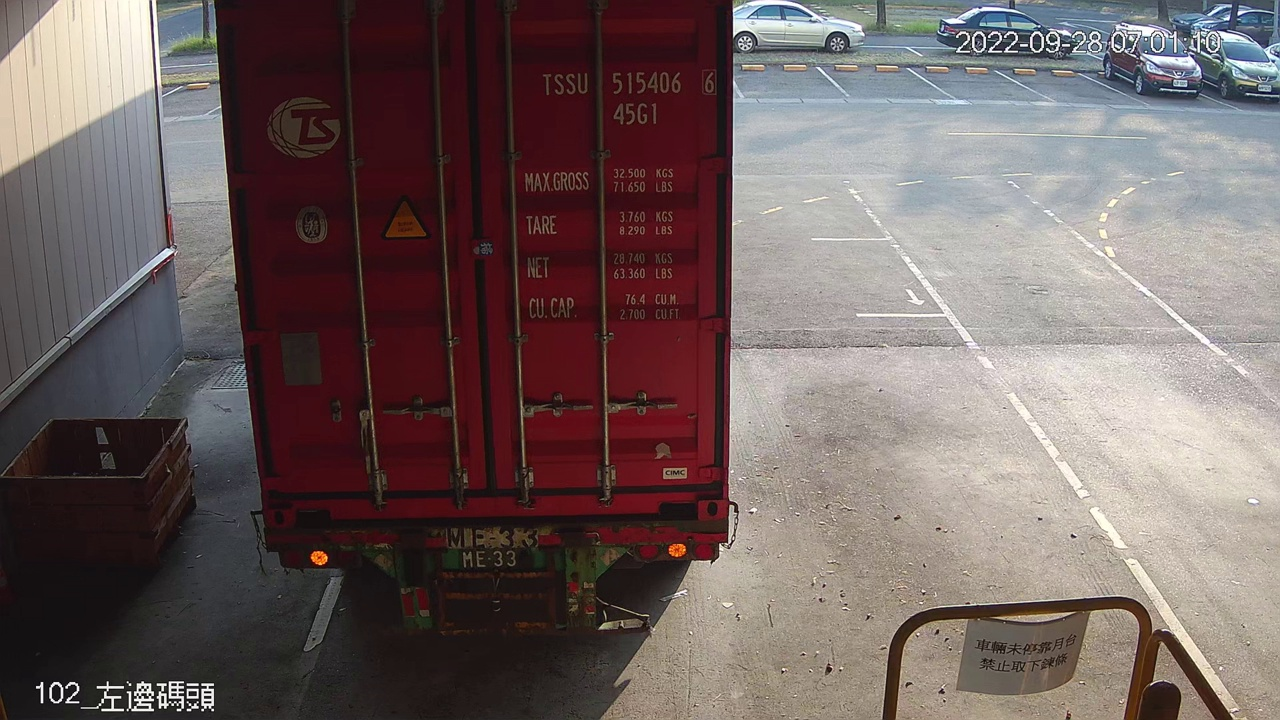container: (533, 64, 723, 131)
